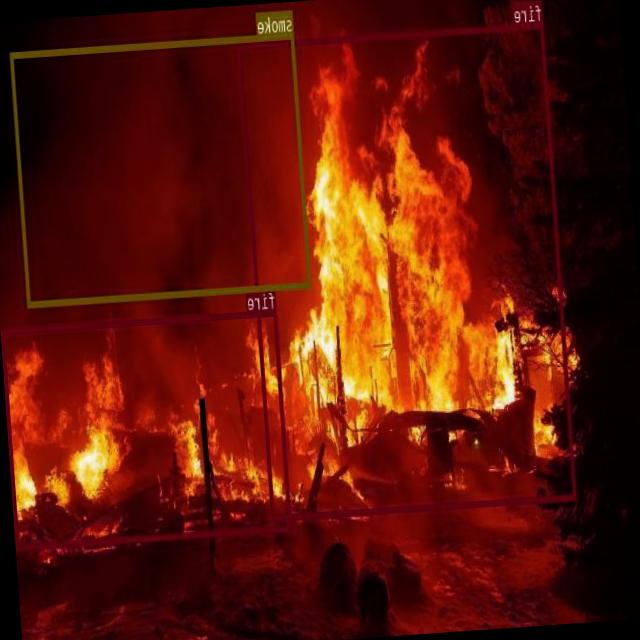fire: (238, 21, 577, 520), (1, 307, 292, 548)
smoke: (10, 32, 312, 306)
